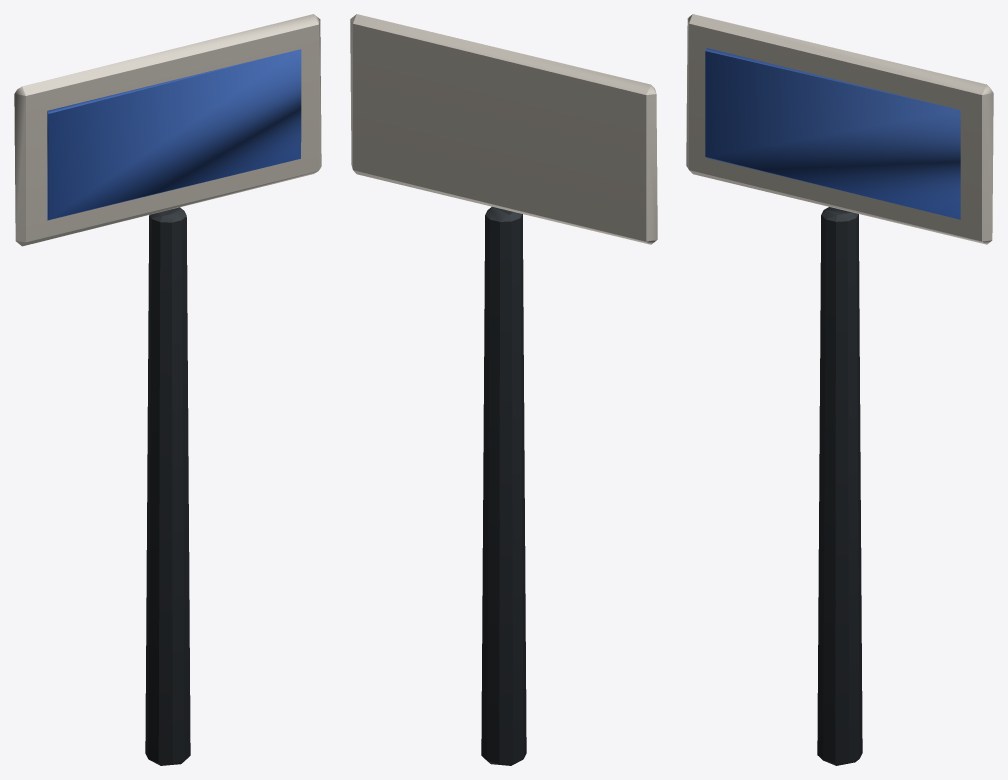
Rendered from road-sign-v1.lod1.glb.
3 renders of one model, left to right at view 1: azimuth 30°, elevation 25°; view 2: azimuth 150°, elevation 25°; view 3: azimuth 330°, elevation 25°, orthographic.
Parts seen in each view (by area): view 1: road-sign-v1.lod1; view 2: road-sign-v1.lod1; view 3: road-sign-v1.lod1.
Part boxes in pixels (x1,y1,x2,y2): road-sign-v1.lod1: (14,14,321,765); road-sign-v1.lod1: (350,14,657,765); road-sign-v1.lod1: (686,14,993,765).
Bounding box in the file's own units: 1.4 × 3.1 × 0.1712.
